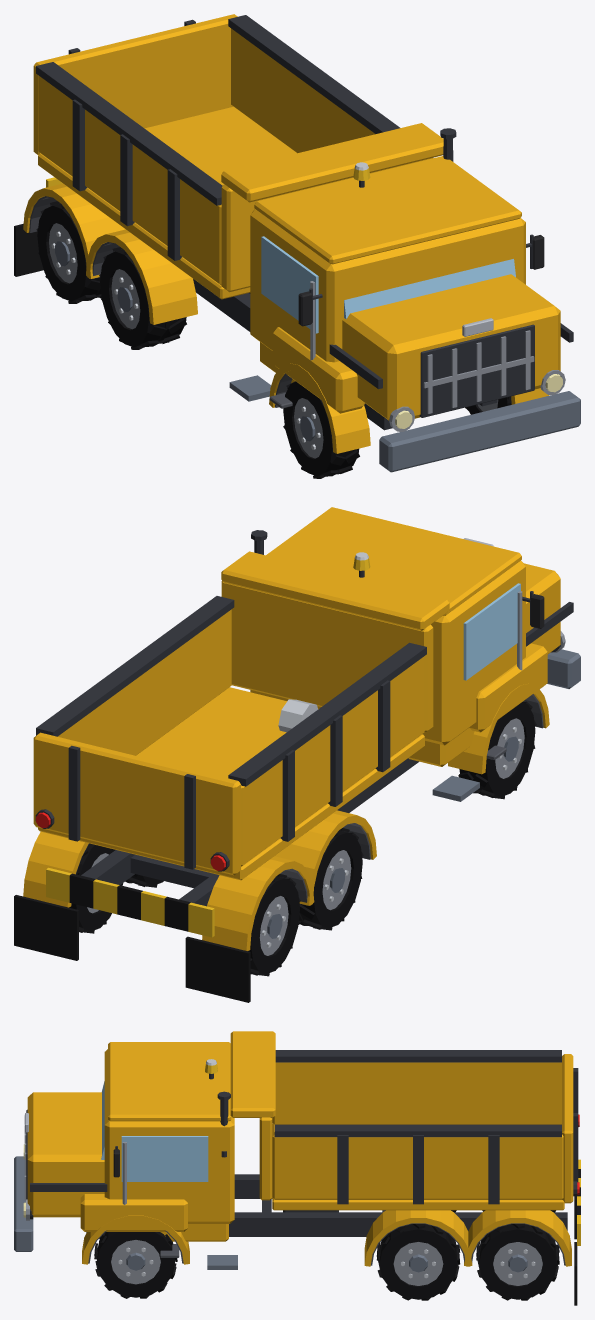
File: DumpTruck.glb
3 views of the same model, one above another, from view 1: azimuth 30°, elevation 25°; view 2: azimuth 150°, elevation 25°; view 3: azimuth 270°, elevation 25° (orthographic). The views are drawn at different scales.
Visible parts, largest first — view 1: Body, BedMesh, TailgateMesh, WheelRR, WheelR2R, WheelFR; view 2: BedMesh, Body, TailgateMesh, WheelRR, WheelR2R, WheelFR, WheelR2L, HoistRamRod; view 3: BedMesh, Body, WheelR2L, WheelRL, WheelFL, TailgateMesh.
Part boxes in pixels (x1,y1,x2,y2): Body: [14, 128, 580, 472]; BedMesh: [36, 15, 443, 299]; TailgateMesh: [33, 14, 237, 154]; WheelRR: [99, 247, 186, 349]; WheelR2R: [36, 201, 101, 303]; WheelFR: [283, 381, 359, 478]; BedMesh: [36, 551, 449, 880]; Body: [14, 507, 580, 1002]; TailgateMesh: [33, 732, 240, 875]; WheelRR: [298, 828, 363, 930]; WheelR2R: [248, 874, 300, 976]; WheelFR: [458, 701, 536, 799]; WheelR2L: [69, 843, 123, 933]; HoistRamRod: [278, 699, 317, 732]; BedMesh: [230, 1031, 564, 1210]; Body: [14, 1042, 580, 1305]; WheelR2L: [476, 1224, 559, 1300]; WheelRL: [376, 1224, 460, 1300]; WheelFL: [94, 1232, 177, 1298]; TailgateMesh: [562, 1054, 579, 1203].
Size of the model in its own units: 2.78 by 2.79 by 7.07.
